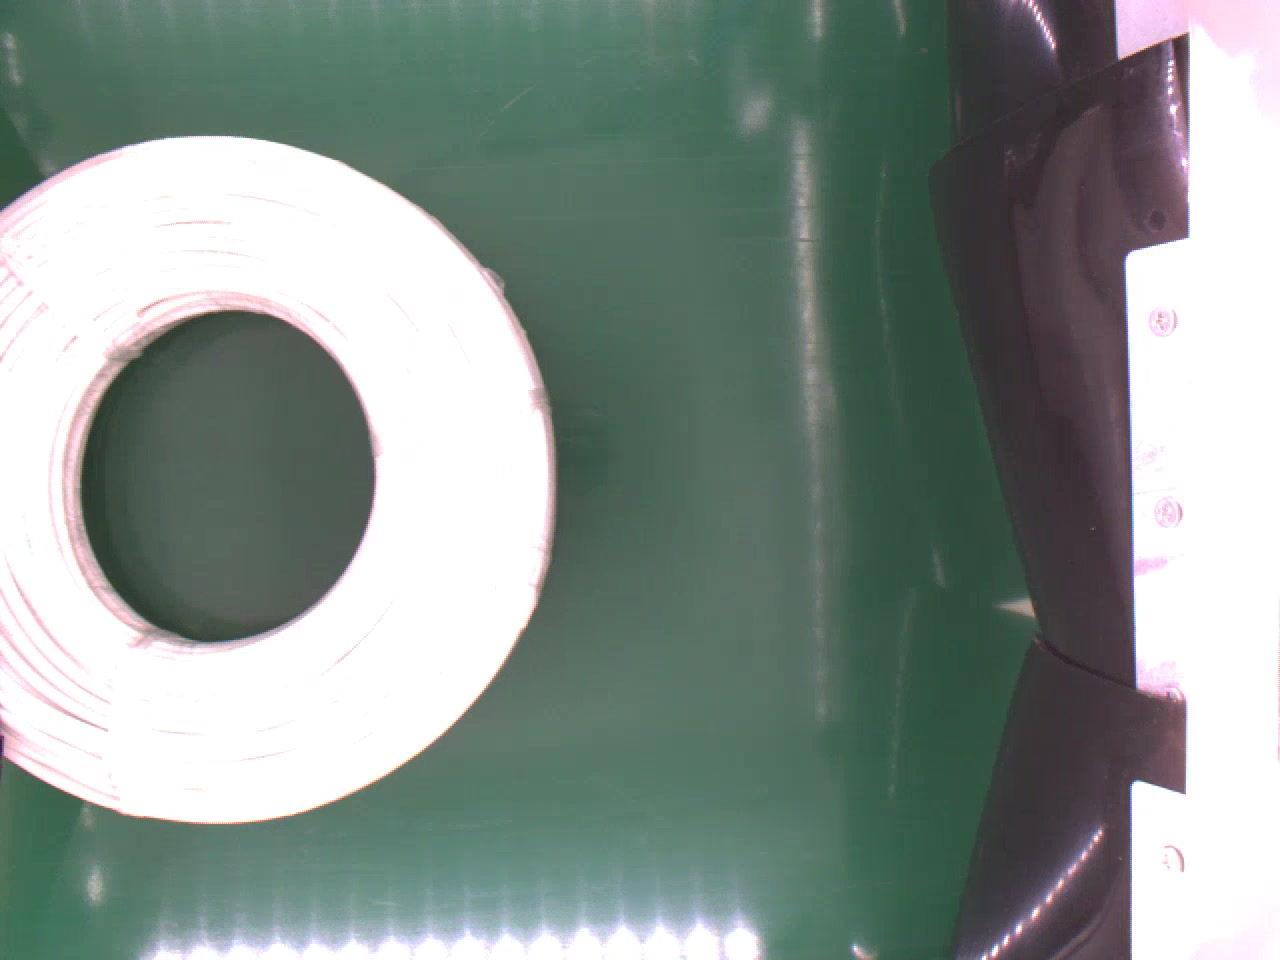white: (0, 130, 554, 823)
